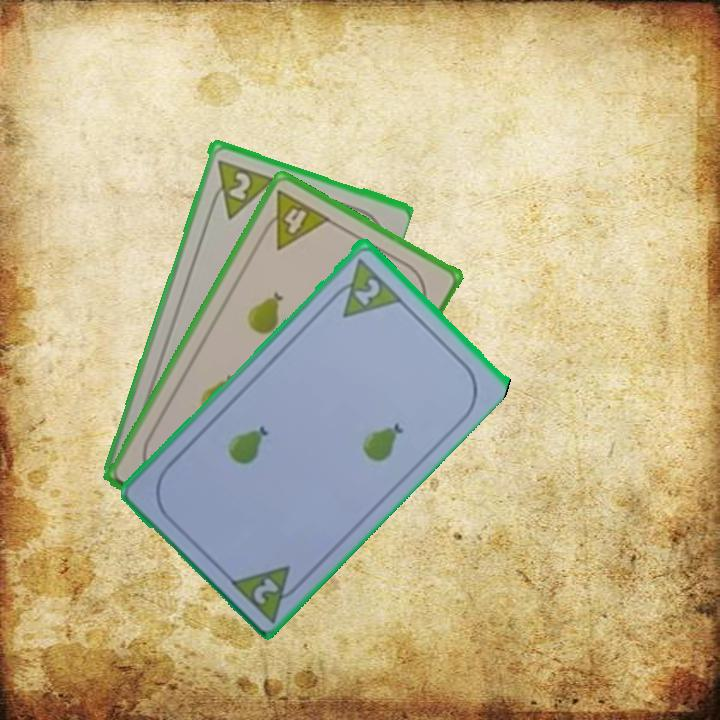2p: (204, 155, 275, 221), (350, 273, 383, 308), (249, 573, 282, 607)
4p: (255, 185, 333, 253)
